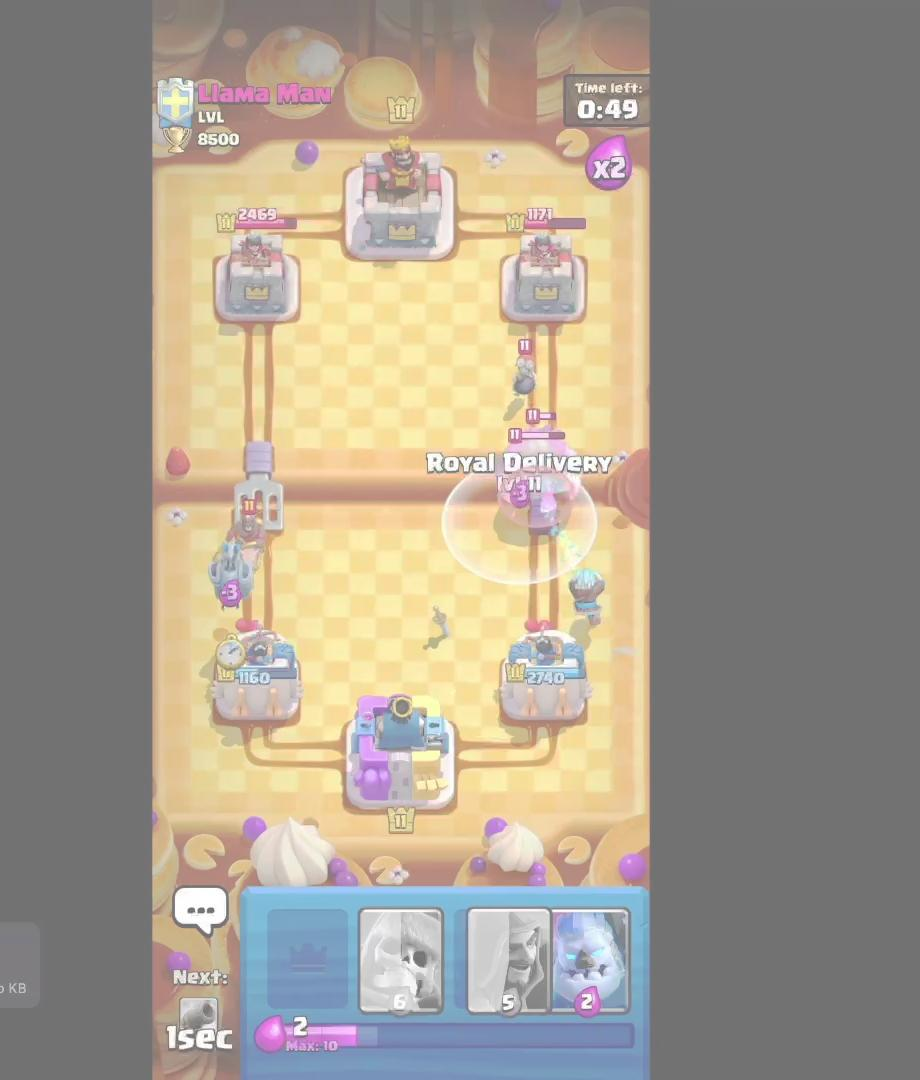Bomber: (493, 341, 557, 397)
Giant: (488, 431, 598, 504)
Hog Rider: (207, 507, 291, 579)
